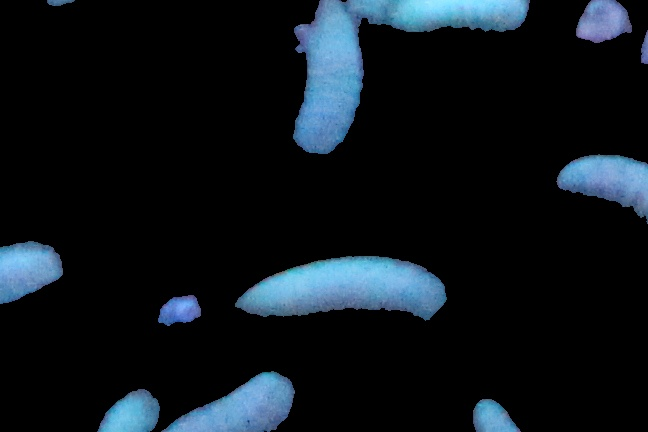larvae: (228, 257, 446, 327), (294, 1, 361, 154), (166, 371, 293, 432), (558, 149, 648, 219), (380, 1, 532, 35), (1, 243, 75, 307), (101, 391, 162, 432)
